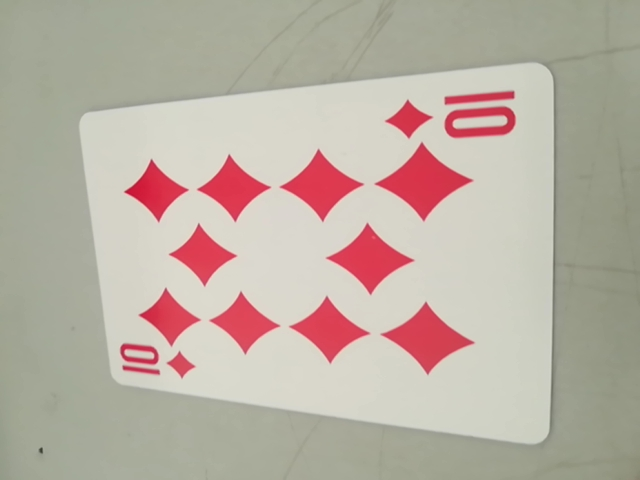fk 10: (389, 83, 531, 150), (113, 336, 200, 388)
